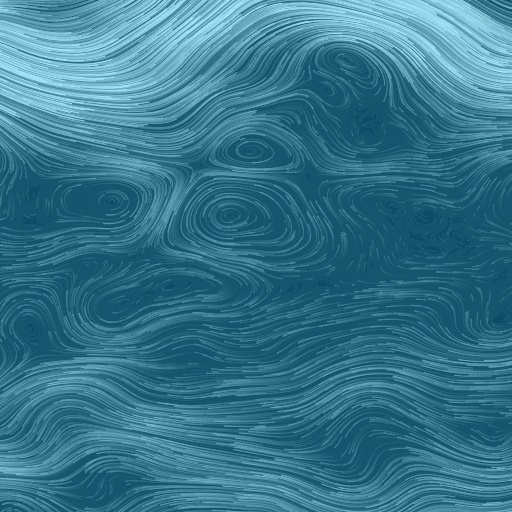eddy: (171, 177, 287, 257), (87, 260, 215, 332), (51, 174, 148, 227), (212, 124, 299, 171), (320, 42, 381, 92), (8, 307, 51, 353)
